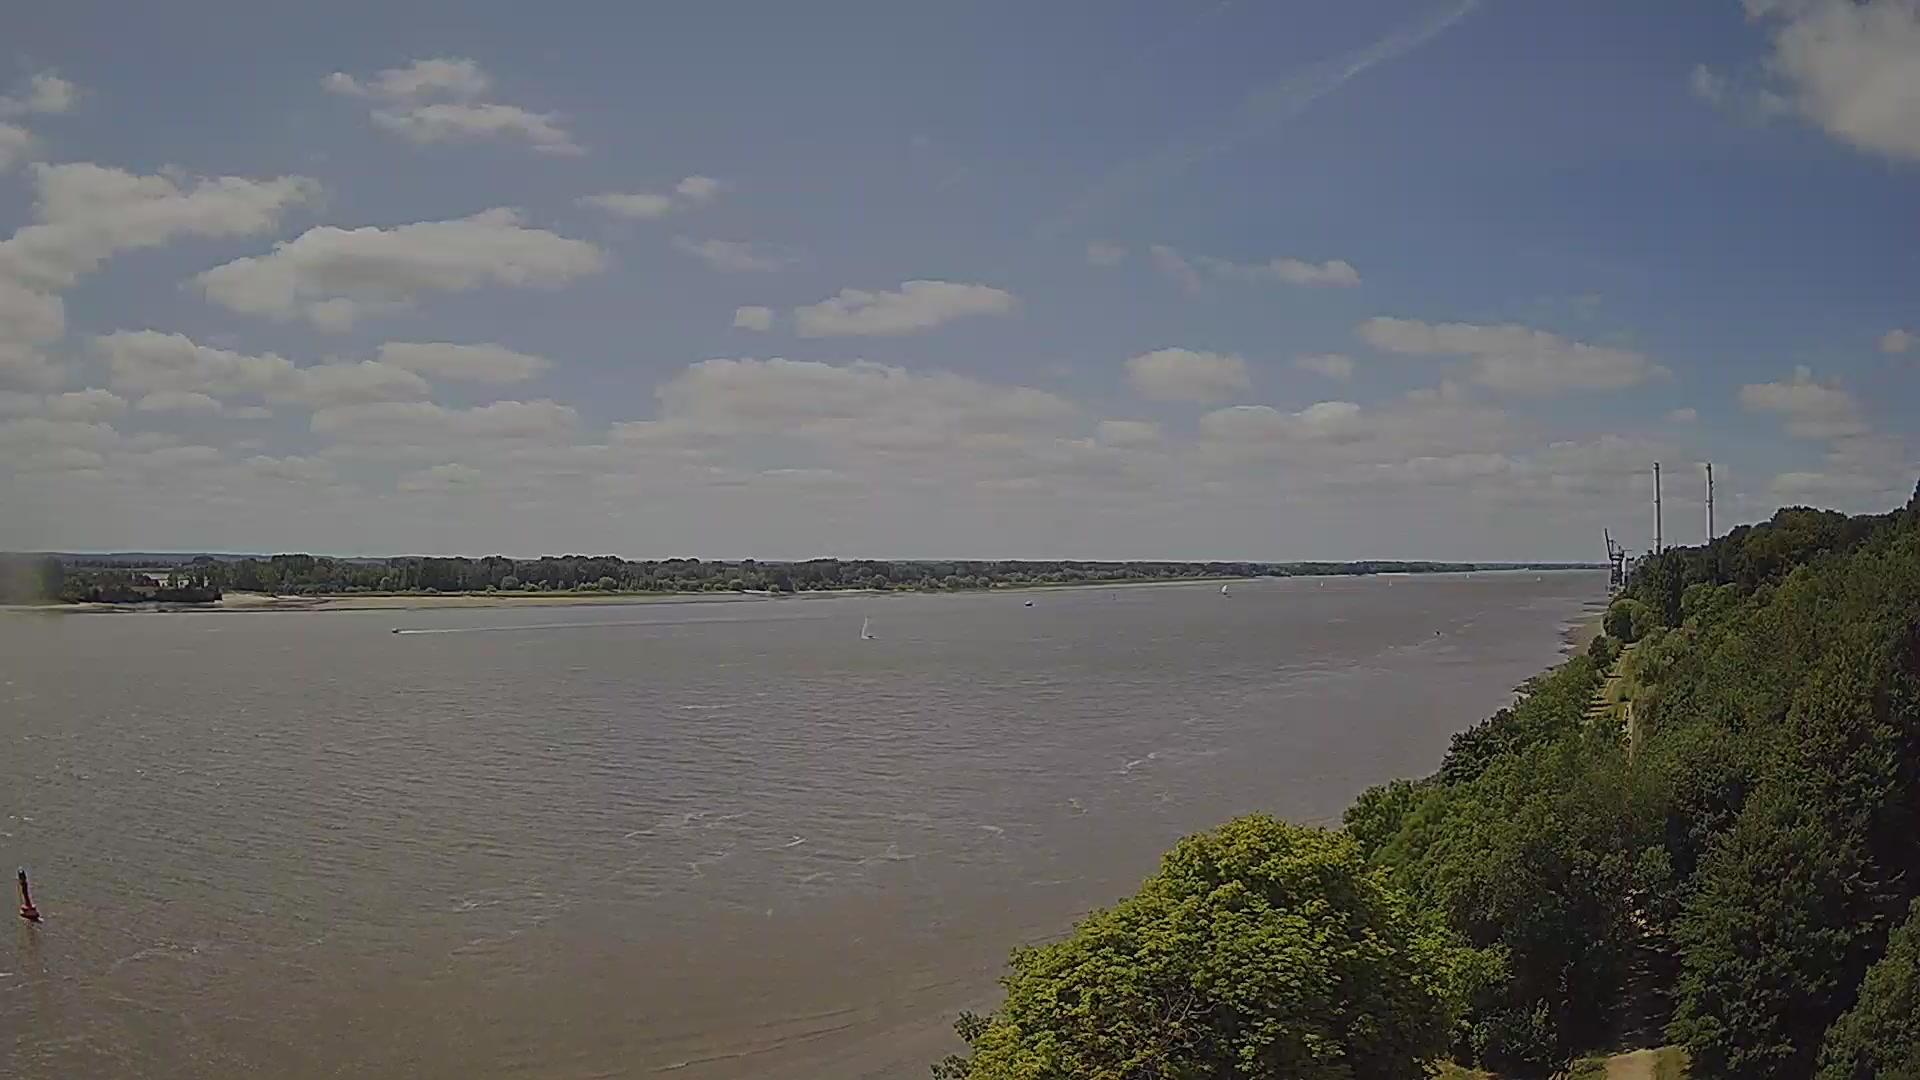sea: (860, 615, 876, 640), (1221, 583, 1229, 595), (1025, 597, 1034, 607), (1433, 628, 1443, 637), (392, 626, 400, 633), (1319, 580, 1325, 588), (1387, 578, 1393, 585), (1536, 575, 1542, 583), (1464, 572, 1470, 578)
